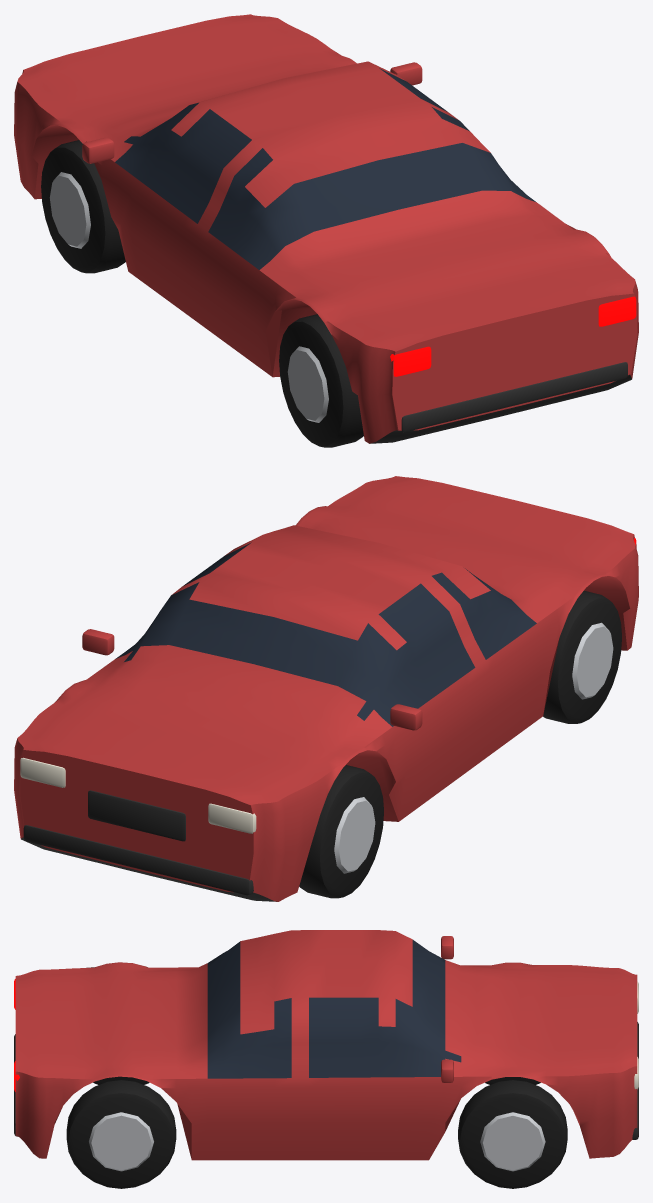
Rendered from Limousine.fbx.
3 renders of one model, top to bottom at view 1: azimuth 30°, elevation 25°; view 2: azimuth 150°, elevation 25°; view 3: azimuth 270°, elevation 25°, orthographic. The views are drawn at different scales.
Visible parts, largest first — view 1: Limousine_Body, Limousine_Glass, Limousine_Tire, Limousine_Trim, Limousine_Rim, Limousine_Taillight; view 2: Limousine_Body, Limousine_Glass, Limousine_Tire, Limousine_Trim, Limousine_Rim, Limousine_Headlight; view 3: Limousine_Body, Limousine_Glass, Limousine_Tire, Limousine_Rim.
Boxes of the visible parts, <box> form: Limousine_Body: <box>14,14,638,443</box>; Limousine_Glass: <box>115,68,536,269</box>; Limousine_Tire: <box>41,140,363,447</box>; Limousine_Trim: <box>369,362,631,443</box>; Limousine_Rim: <box>49,172,328,422</box>; Limousine_Taillight: <box>390,296,636,376</box>; Limousine_Body: <box>14,476,638,901</box>; Limousine_Glass: <box>115,542,536,726</box>; Limousine_Tire: <box>299,590,621,898</box>; Limousine_Trim: <box>21,790,277,901</box>; Limousine_Rim: <box>334,622,613,873</box>; Limousine_Headlight: <box>20,757,256,833</box>; Limousine_Body: <box>15,930,637,1160</box>; Limousine_Glass: <box>207,940,461,1078</box>; Limousine_Tire: <box>66,1076,567,1188</box>; Limousine_Rim: <box>89,1112,545,1171</box>.
Bounding box in the file's own units: 8.7 × 5.25 × 17.1.
